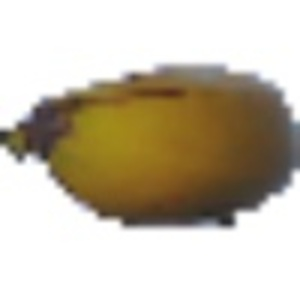banana: (3, 56, 295, 233)
